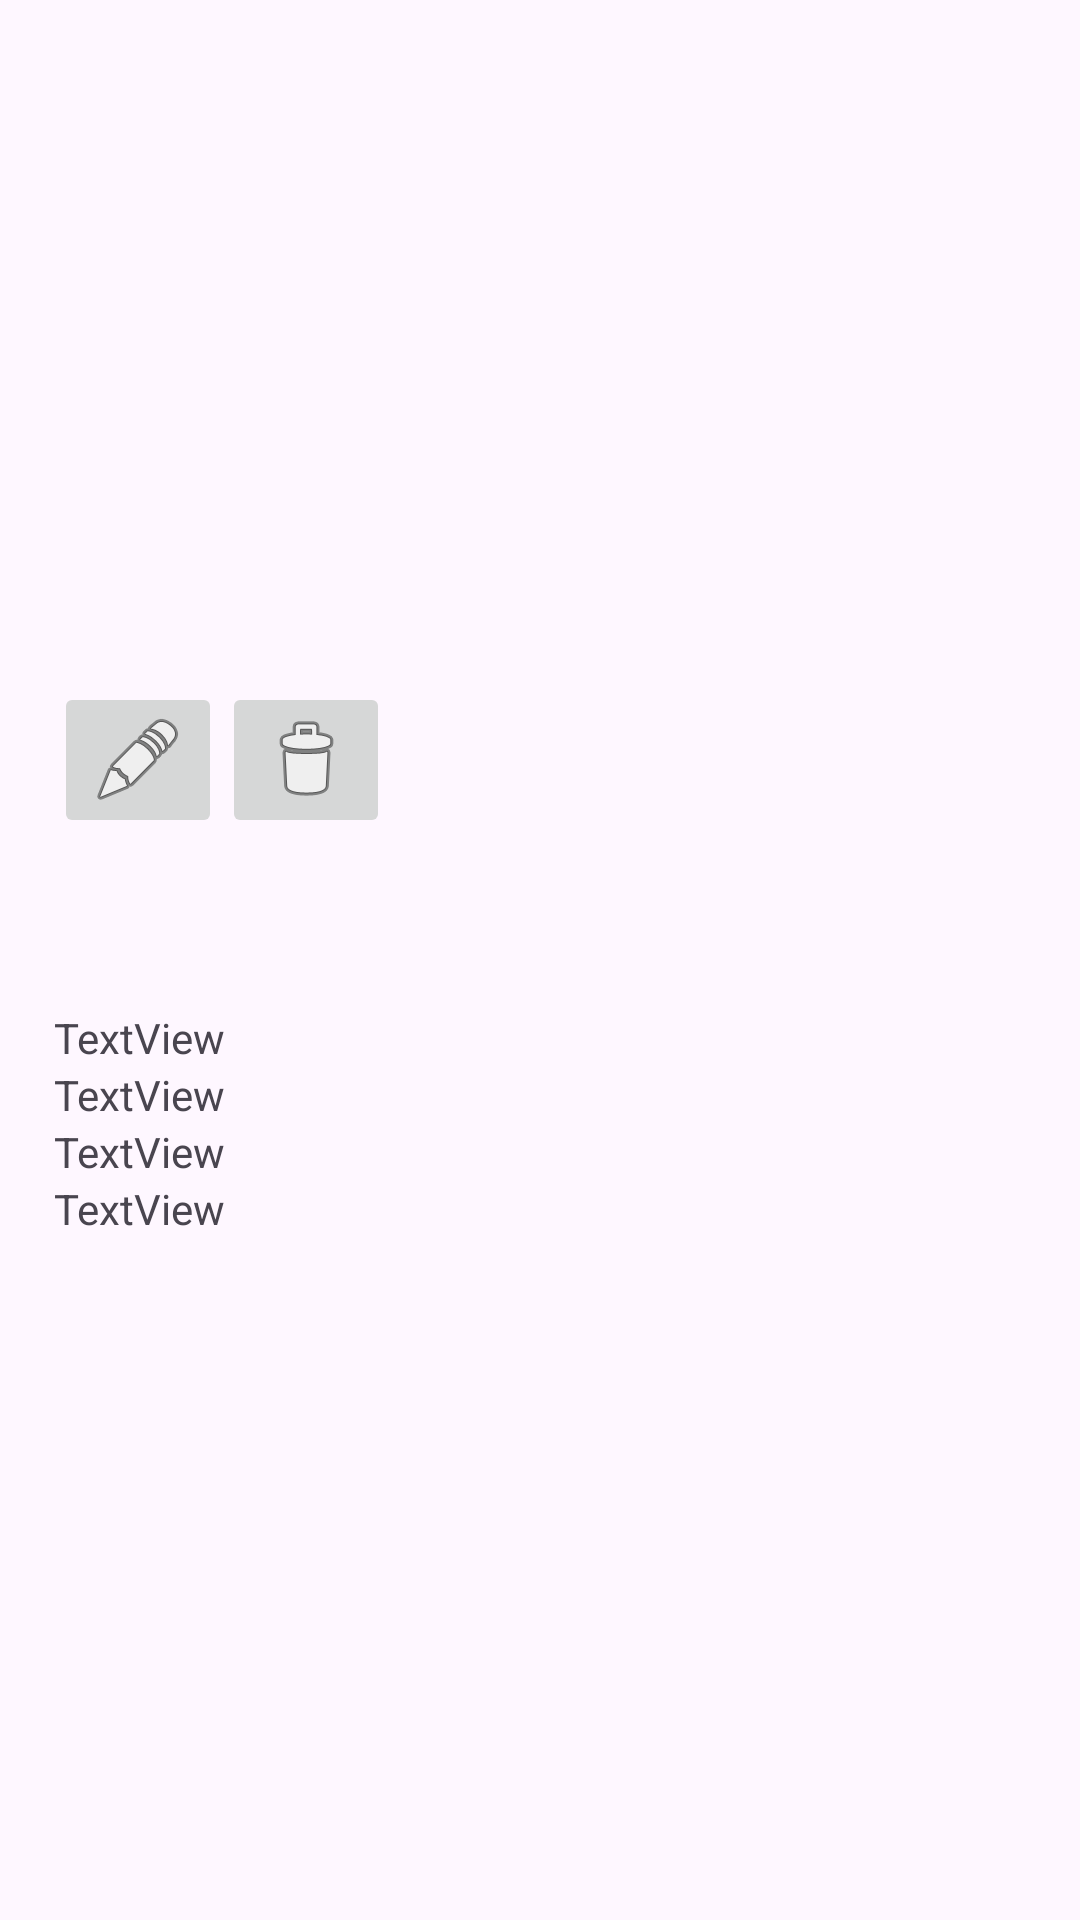

Icons on this 1080*1920 Android screen, each with the point to tap as (x=x, y=y):
Editar: (x=138, y=760)
Excluir: (x=306, y=760)
